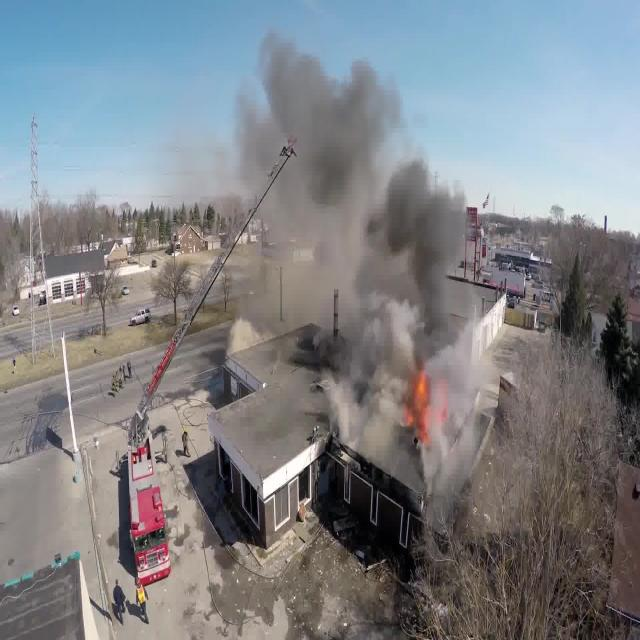smoke: (260, 74, 426, 430)
